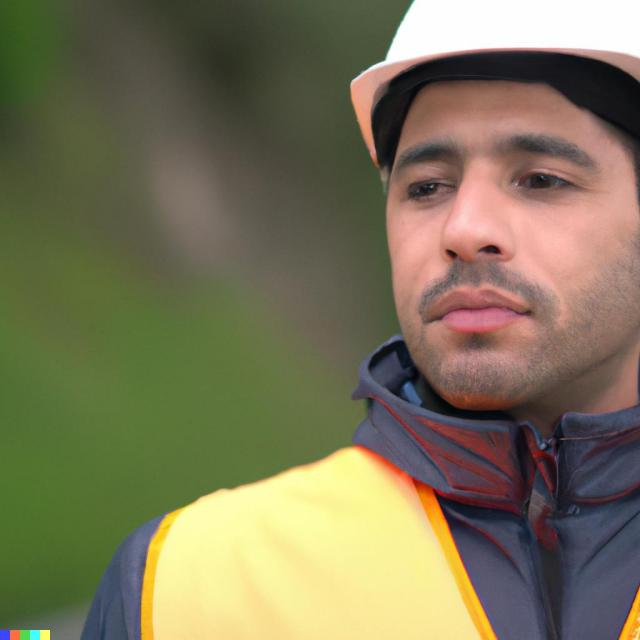Reflective-Jacket: (129, 418, 640, 636)
Safety-Helmet: (340, 3, 640, 168)
